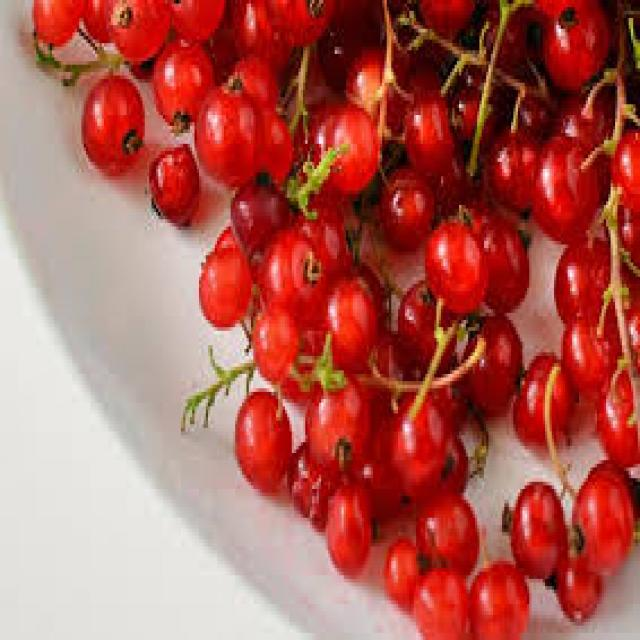organic waste: (195, 61, 282, 183), (380, 381, 448, 500), (300, 90, 378, 190), (527, 137, 599, 241), (303, 367, 364, 485), (450, 309, 516, 417), (149, 32, 213, 133), (466, 201, 527, 306), (538, 0, 608, 90), (230, 172, 290, 277), (231, 388, 287, 496), (344, 36, 409, 129), (81, 68, 142, 165), (400, 58, 450, 176), (568, 468, 626, 568), (425, 216, 484, 313), (319, 270, 378, 366), (256, 230, 324, 313), (554, 234, 613, 327), (396, 277, 454, 370), (414, 485, 475, 572), (563, 309, 615, 406), (378, 158, 434, 248), (226, 0, 296, 72), (508, 475, 558, 575), (183, 342, 249, 417), (514, 356, 572, 439), (317, 0, 380, 76), (292, 194, 351, 273), (484, 122, 540, 205), (552, 525, 597, 626), (468, 558, 525, 636), (287, 137, 346, 212), (547, 94, 615, 158), (147, 137, 197, 223), (272, 317, 324, 399), (326, 475, 368, 575), (251, 302, 301, 385), (592, 366, 638, 456), (412, 564, 468, 636), (104, 0, 170, 61), (355, 327, 412, 396), (353, 428, 396, 518), (590, 456, 638, 536), (288, 442, 332, 529), (452, 61, 496, 148), (197, 248, 251, 316), (423, 424, 468, 500), (509, 72, 554, 147), (480, 4, 530, 68), (602, 190, 638, 277), (251, 101, 289, 183), (341, 244, 380, 320), (265, 0, 330, 43), (384, 536, 420, 604), (32, 0, 84, 47), (613, 270, 638, 366), (432, 378, 473, 432), (610, 126, 638, 205), (434, 148, 470, 208), (165, 0, 224, 36), (414, 0, 473, 32), (615, 0, 638, 72), (84, 0, 110, 47), (215, 223, 237, 255)
